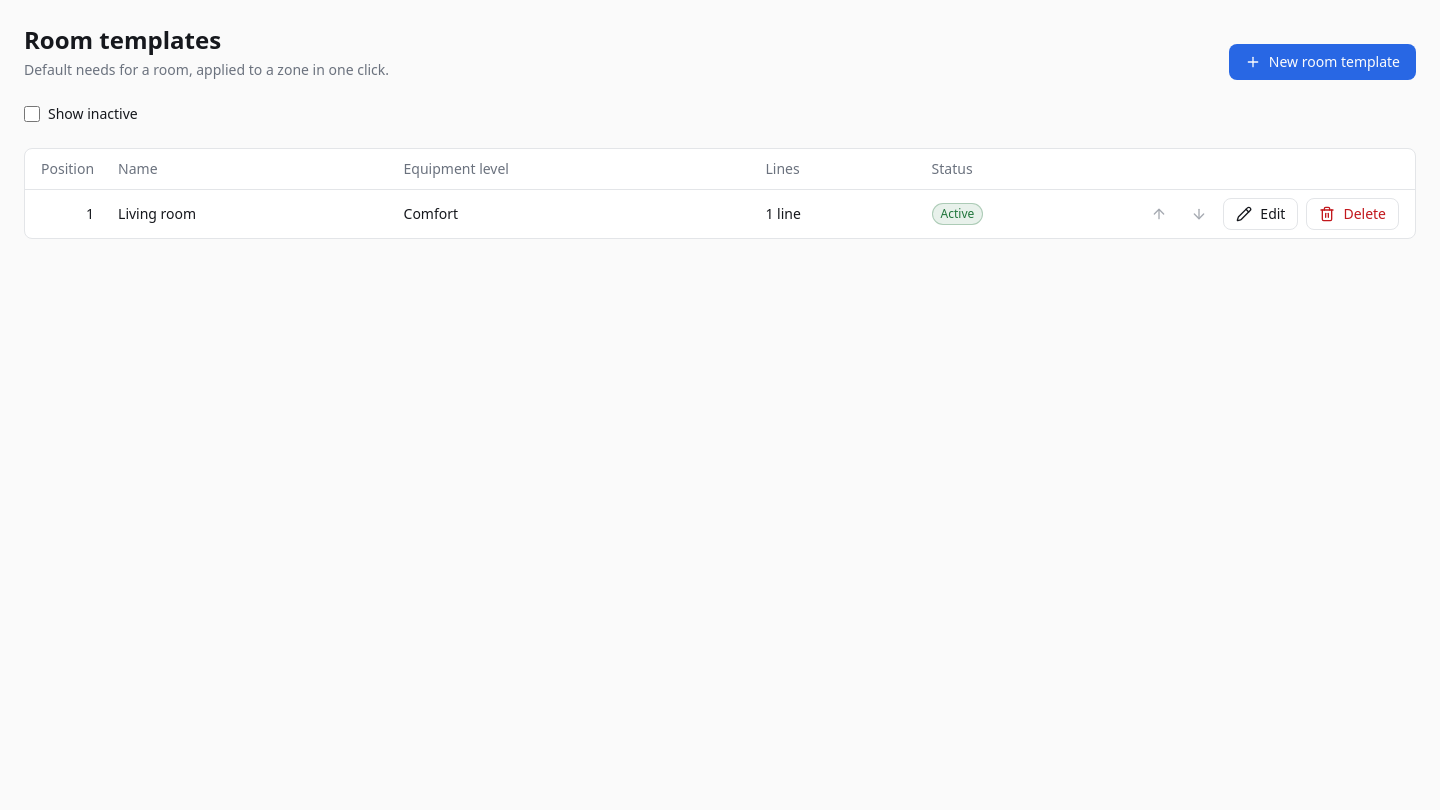
RoomTemplatesPage › clears a load type the new function type does not allow
This screenshot has width=1440, height=810.
Click the button "Edit" at (1261, 214), box [1223,198,1298,230]
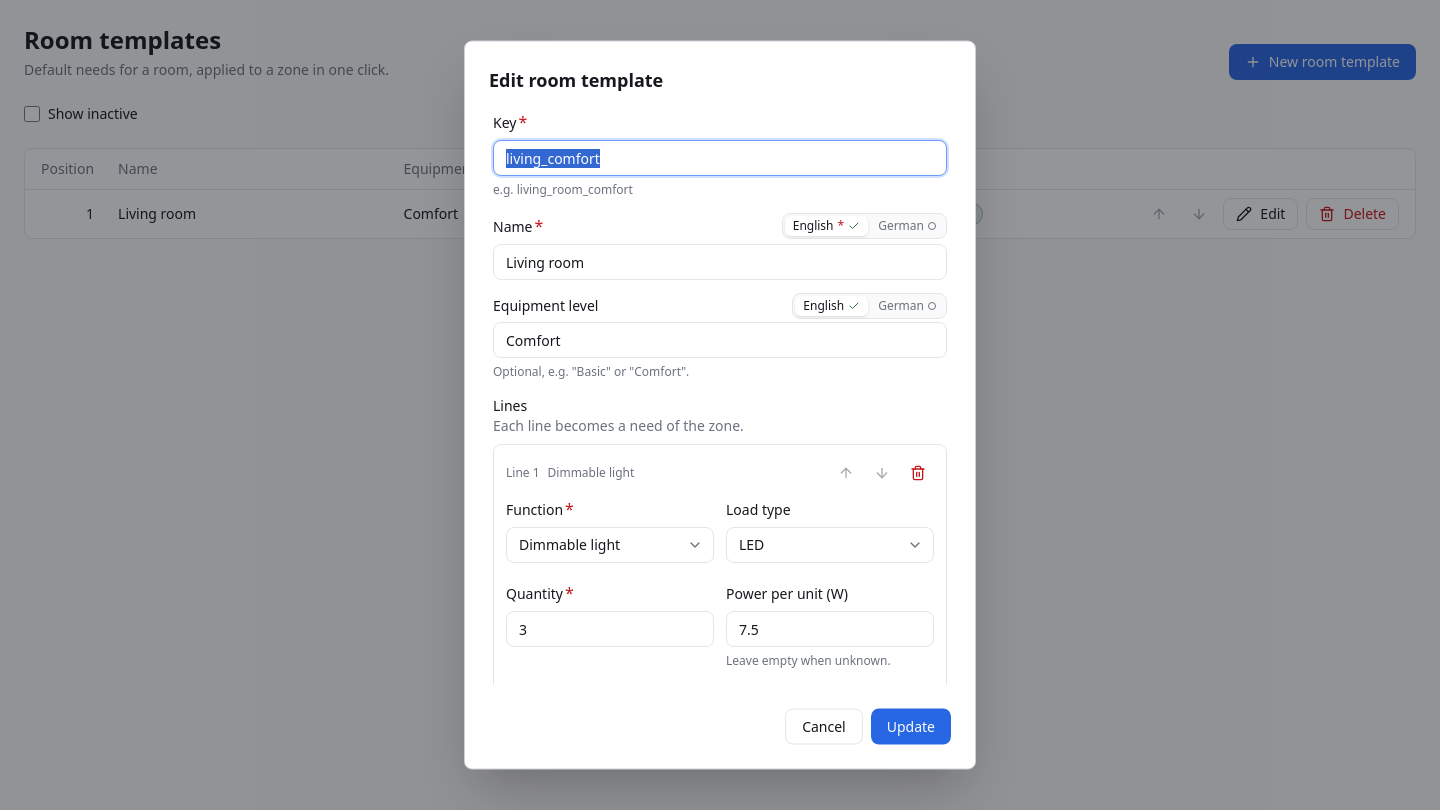
Check: the field labelled "Power per unit (W)" holds "7.5", box [726,610,934,646]
Check: the dropdown named "Load type" reads "LED", box [726,526,934,562]
Click the dropdown named "function" at (610, 544), box [506,526,714,562]
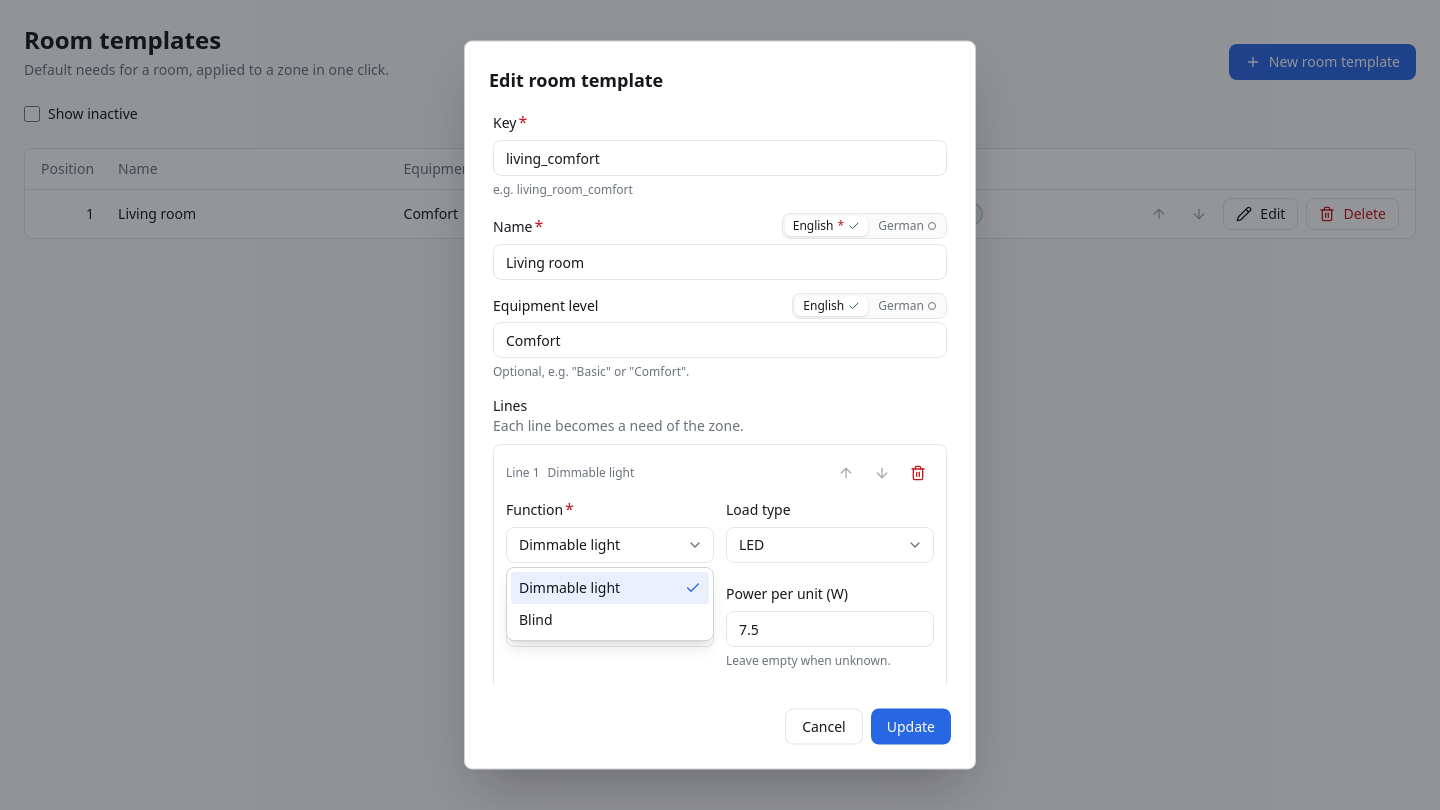
Click the option "Blind" at (536, 620), box [519,610,553,629]
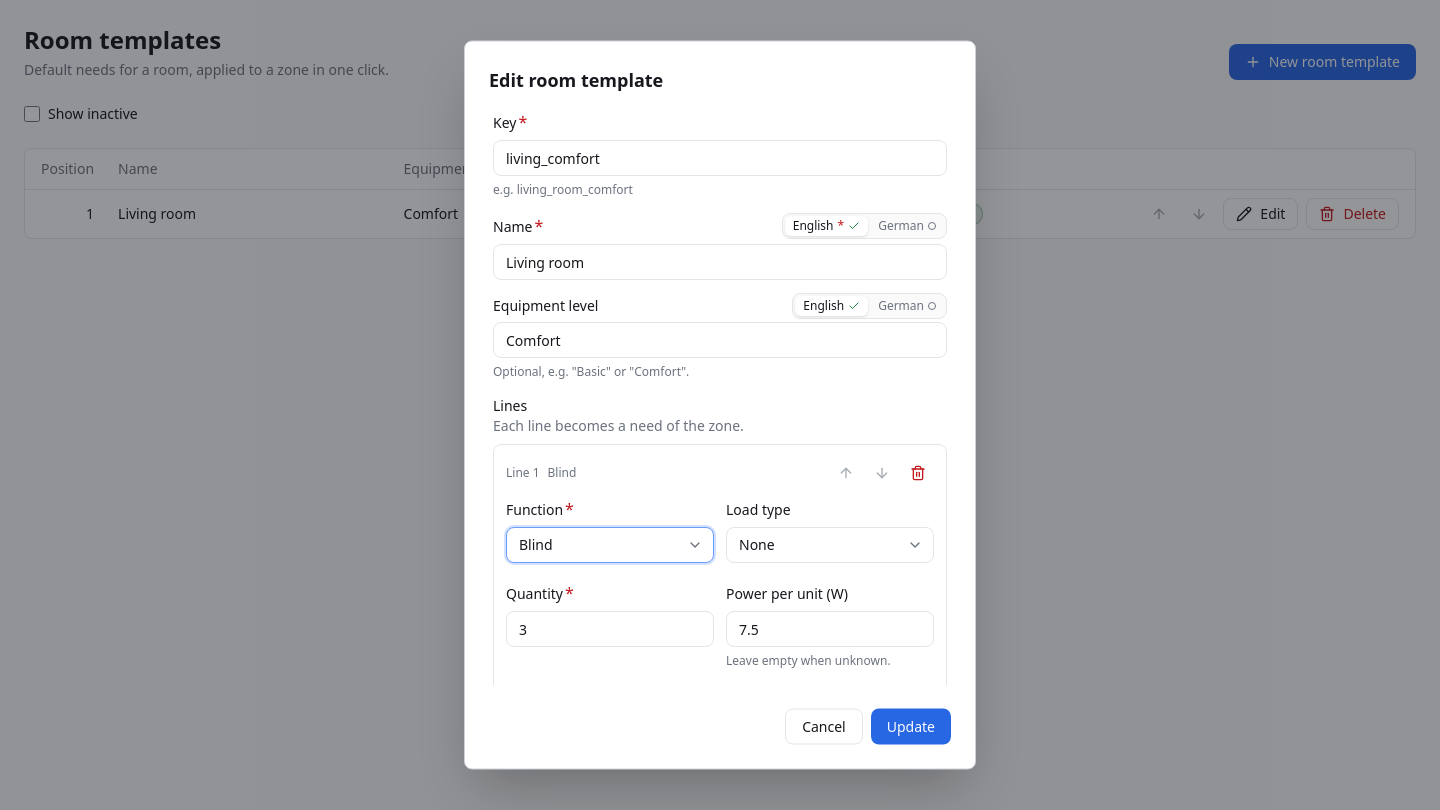
Check: the dropdown named "Load type" reads "None", box [726,526,934,562]
